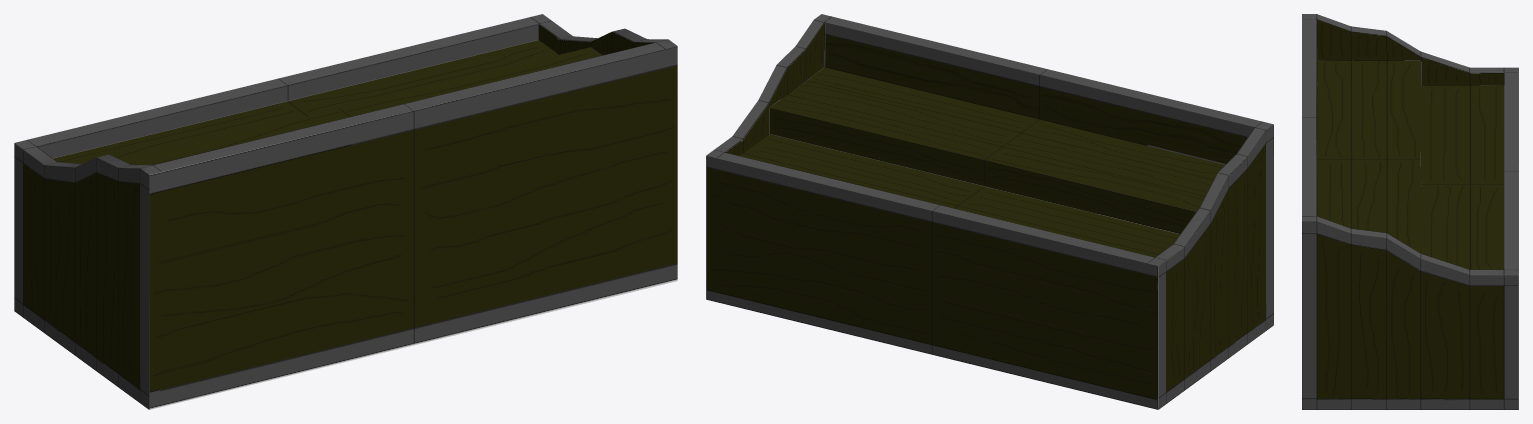
The model's file is table 2.fbx.
3 views of the same model, side by side, from view 1: azimuth 30°, elevation 25°; view 2: azimuth 150°, elevation 25°; view 3: azimuth 270°, elevation 25° (orthographic). The views are drawn at different scales.
Parts seen in each view (by area): view 1: pCube3; view 2: pCube3; view 3: pCube3.
Part boxes in pixels (<box>): pCube3: <box>14,14,677,409</box>; pCube3: <box>706,14,1273,409</box>; pCube3: <box>1302,14,1518,409</box>.
Bounding box in the file's own units: 30 × 12.74 × 13.27.
